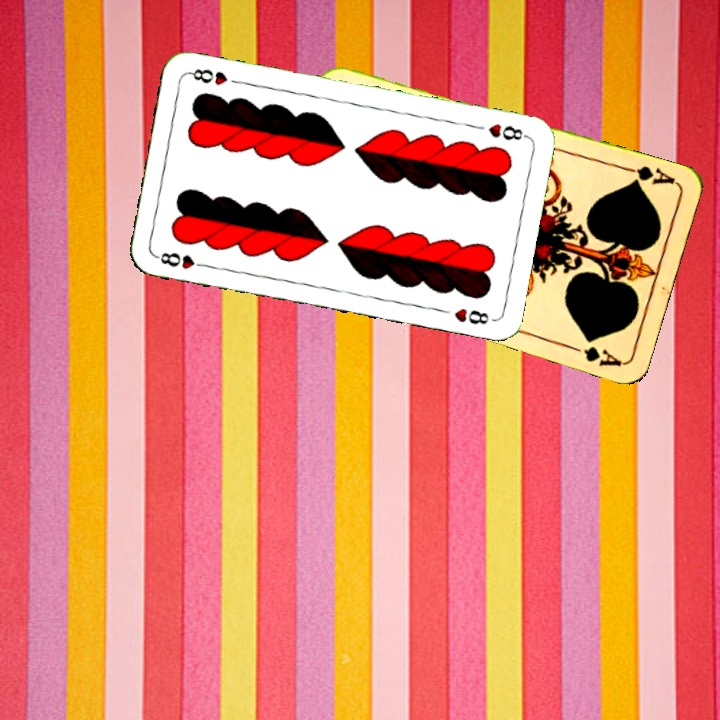GA: (619, 161, 678, 188)
H8: (152, 248, 211, 272), (484, 119, 530, 143)
